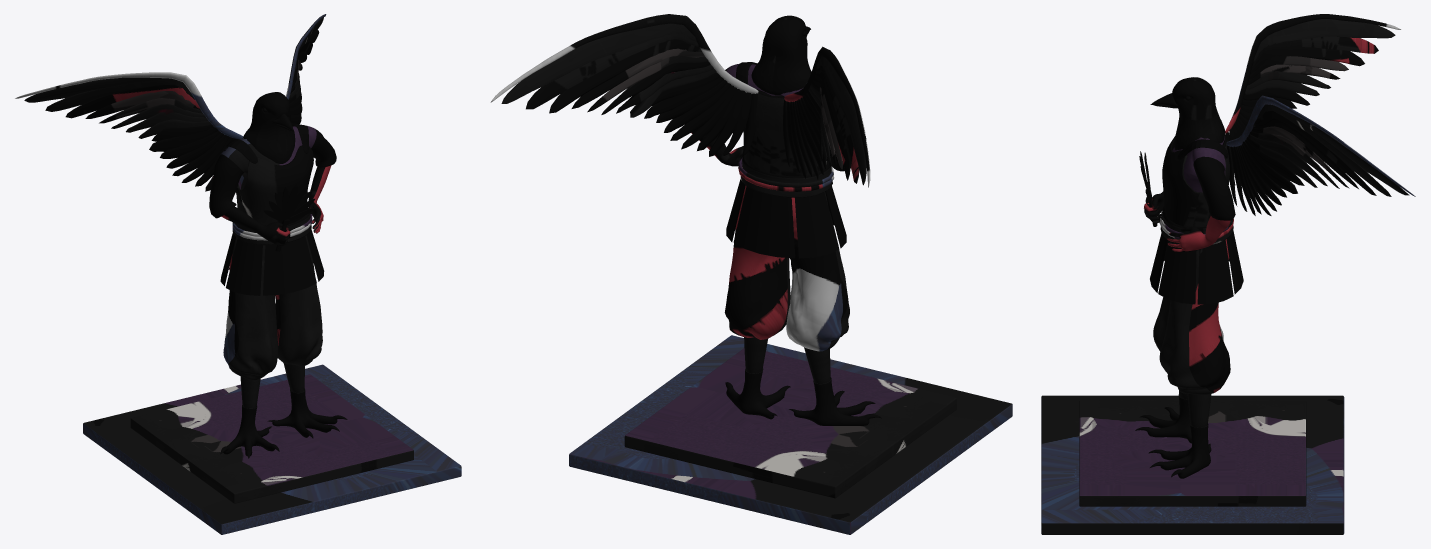
The model's file is statue_low.fbx.
3 renders of one model, left to right at view 1: azimuth 30°, elevation 25°; view 2: azimuth 150°, elevation 25°; view 3: azimuth 270°, elevation 25°, orthographic. The views are drawn at different scales.
Parts seen in each view (by area): view 1: pCube289, pCube290, Wing_R, Pants, Body, Top_armour, shirt, Head, pasted__polySurface200, pasted__polySurface209, Wing_L, strap (+1 smaller); view 2: pCube289, pCube290, Wing_L, Pants, Wing_R, Body, Head, pasted__polySurface208, Top_armour, pasted__polySurface210, pasted__obi; view 3: pCube289, pCube290, Wing_L, Wing_R, Pants, Body, Head, Top_armour, shirt, pasted__polySurface211, pasted__polySurface201, pasted__polySurface208 (+3 smaller).
Part boxes in pixels (<box>): pCube289: <box>130,374,413,503</box>; pCube290: <box>83,364,461,534</box>; Wing_R: <box>15,72,243,191</box>; Pants: <box>223,235,322,380</box>; Body: <box>213,146,347,458</box>; Top_armour: <box>236,145,313,225</box>; shirt: <box>209,125,336,218</box>; Head: <box>243,92,295,163</box>; pasted__polySurface200: <box>263,236,316,295</box>; pasted__polySurface209: <box>226,238,262,295</box>; Wing_L: <box>286,14,326,124</box>; strap: <box>226,124,308,163</box>; pCube289: <box>624,348,956,498</box>; pCube290: <box>569,335,1012,534</box>; Wing_L: <box>490,14,758,156</box>; Pants: <box>724,185,849,351</box>; Wing_R: <box>783,46,870,187</box>; Body: <box>691,129,881,425</box>; Head: <box>751,15,811,94</box>; pasted__polySurface208: <box>733,186,795,258</box>; Top_armour: <box>743,89,826,176</box>; pasted__polySurface210: <box>795,192,838,258</box>; pasted__obi: <box>740,156,832,197</box>; pCube289: <box>1079,400,1306,506</box>; pCube290: <box>1041,395,1344,534</box>; Wing_L: <box>1226,95,1415,215</box>; Wing_R: <box>1225,14,1400,185</box>; Pants: <box>1153,239,1230,394</box>; Body: <box>1135,191,1230,478</box>; Head: <box>1172,77,1223,150</box>; Top_armour: <box>1162,131,1229,227</box>; shirt: <box>1172,136,1235,220</box>; pasted__polySurface211: <box>1197,240,1233,304</box>; pasted__polySurface201: <box>1158,241,1196,304</box>; pasted__polySurface208: <box>1226,230,1243,294</box>.
Bounding box in the file's own units: 875 × 994 × 826.
